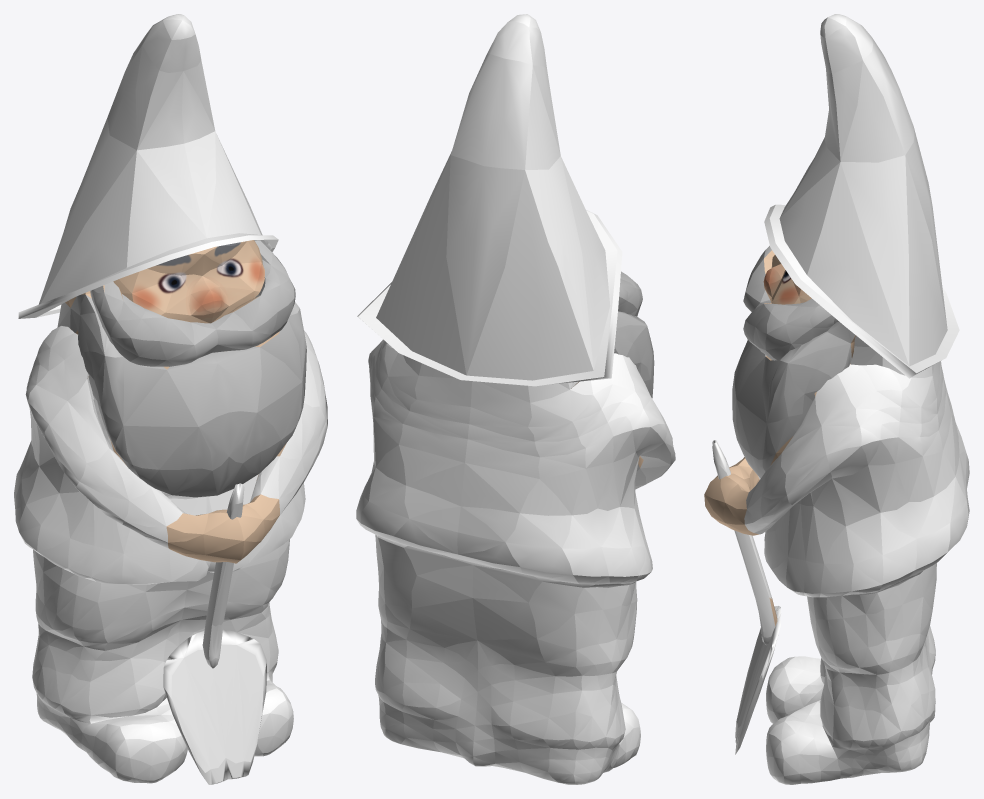
Rendered from gnome.fbx.
The picture shows the model from 3 angles, left to right: view 1: azimuth 30°, elevation 25°; view 2: azimuth 150°, elevation 25°; view 3: azimuth 270°, elevation 25°; orthographic projection.
Parts seen in each view (by area): view 1: Cube.008; view 2: Cube.008; view 3: Cube.008.
Boxes of the visible parts, x1=… form: Cube.008: x1=14, y1=14, x2=327, y2=784; Cube.008: x1=356, y1=14, x2=675, y2=784; Cube.008: x1=704, y1=14, x2=969, y2=784.
Size of the model in its own units: 12.88 by 32.4 by 10.61.
Materials: 9 (1 with a texture image).
